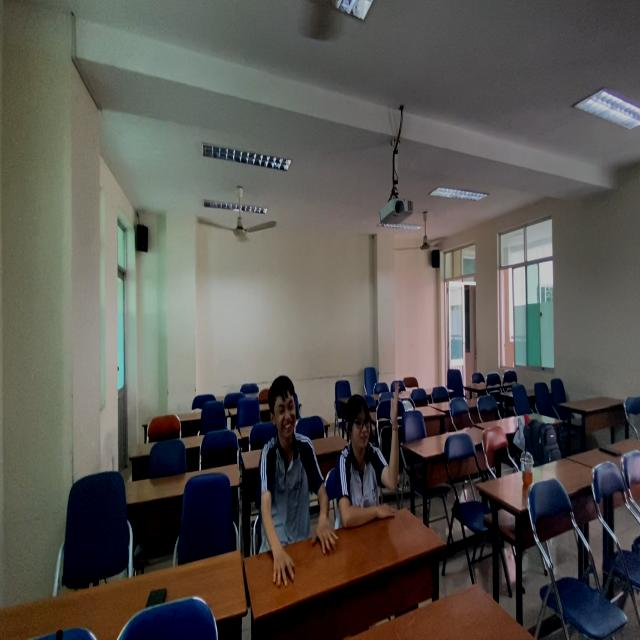raise_hand: (333, 377, 404, 521)
